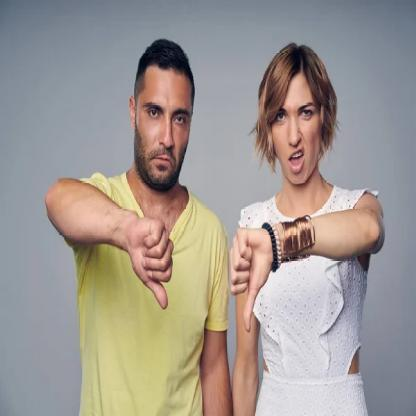thumb_down: (131, 210, 176, 312), (228, 223, 268, 332)
